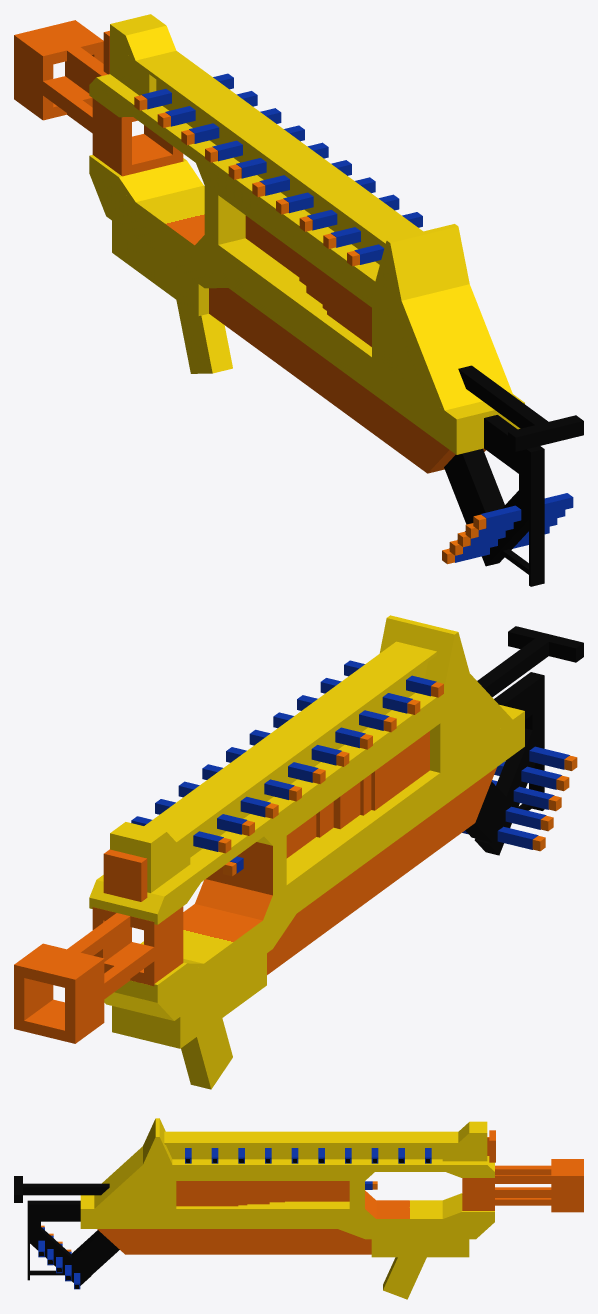
File: vanguard.glb
3 views of the same model, one above another, from view 1: azimuth 30°, elevation 25°; view 2: azimuth 150°, elevation 25°; view 3: azimuth 270°, elevation 25° (orthographic). The views are drawn at different scales.
Visible parts, largest first — view 1: cube.012; view 2: cube.012; view 3: cube.012.
Part boxes in pixels (x1=…): cube.012: x1=14, y1=14, x2=583, y2=586; cube.012: x1=14, y1=615, x2=583, y2=1089; cube.012: x1=14, y1=1118, x2=583, y2=1299.
Bounding box in the file's own units: 0.1788 × 0.5264 × 1.6.
2 materials, 2 textured.
